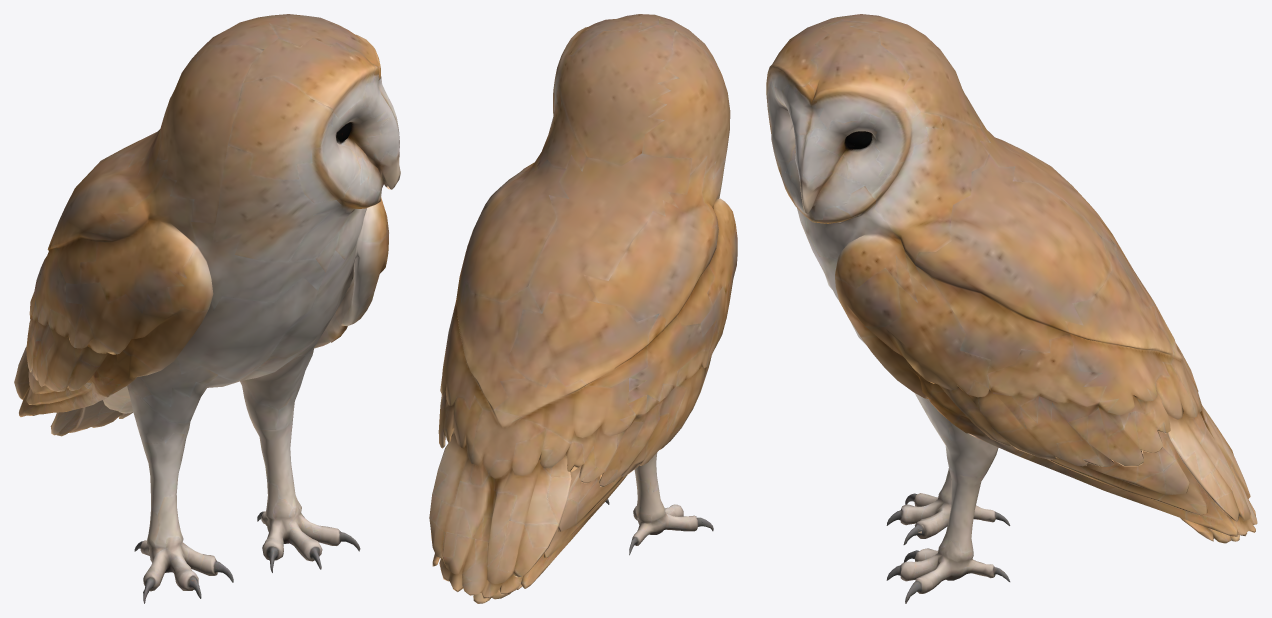
File: owl-barn.glb
3 renders of one model, left to right at view 1: azimuth 30°, elevation 25°; view 2: azimuth 150°, elevation 25°; view 3: azimuth 270°, elevation 25°, orthographic. The views are drawn at different scales.
Parts seen in each view (by area): view 1: geometry_0; view 2: geometry_0; view 3: geometry_0.
Part boxes in pixels (left/top/right/bottom): geometry_0: left=14, top=14, right=400, bottom=603; geometry_0: left=429, top=14, right=737, bottom=603; geometry_0: left=766, top=14, right=1257, bottom=603.
Bounding box in the file's own units: 0.4937 × 0.9517 × 0.7954.
Materials: 1 (1 with a texture image).
